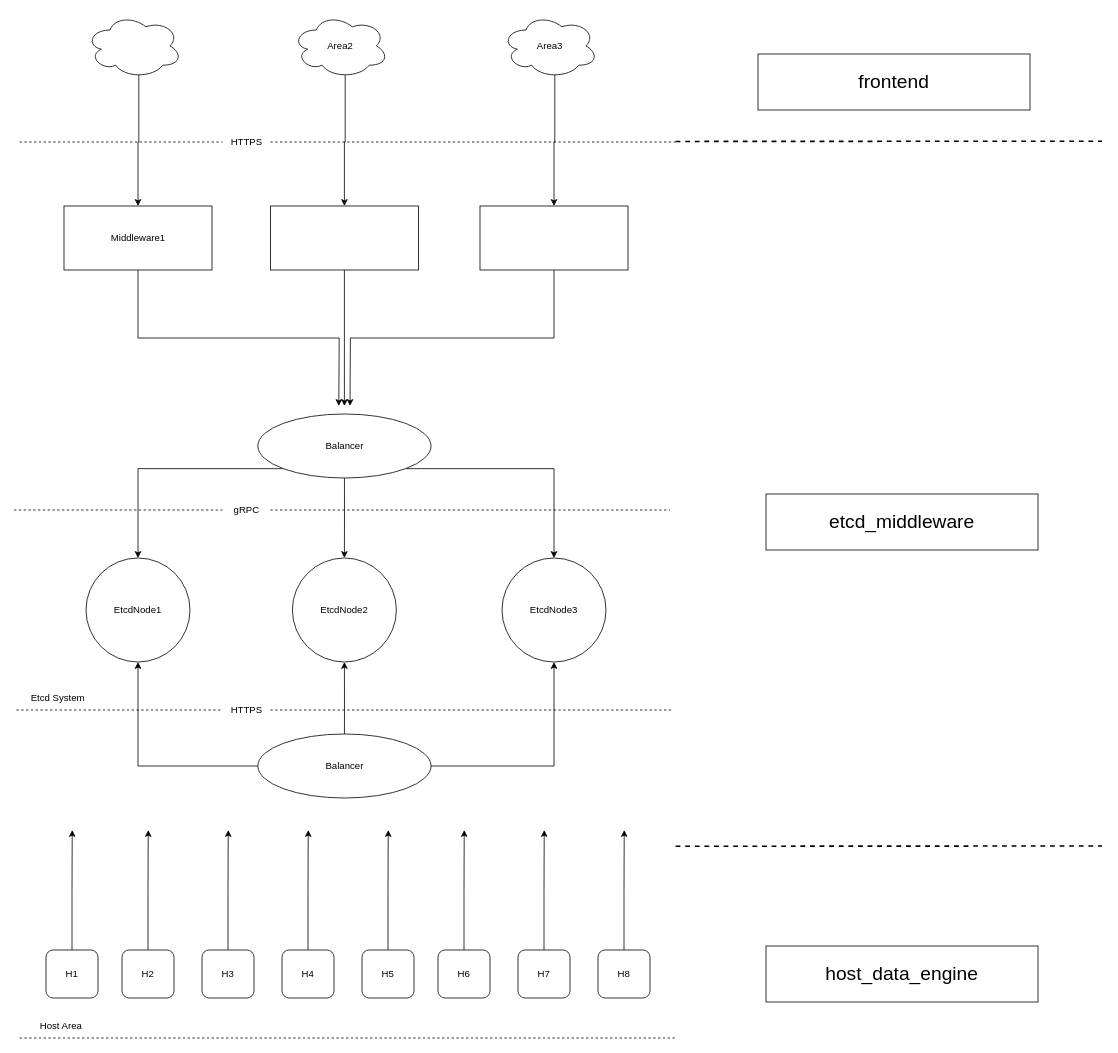
Image size: 1118x1053. Some labels were removed from this diagram. The shapes that lost their labels are listed below. From the top down, each one's centre as x and y in pixels, then its label:
[133,45]: Area1
[344,237]: Middleware2
[553,237]: Middleware3
